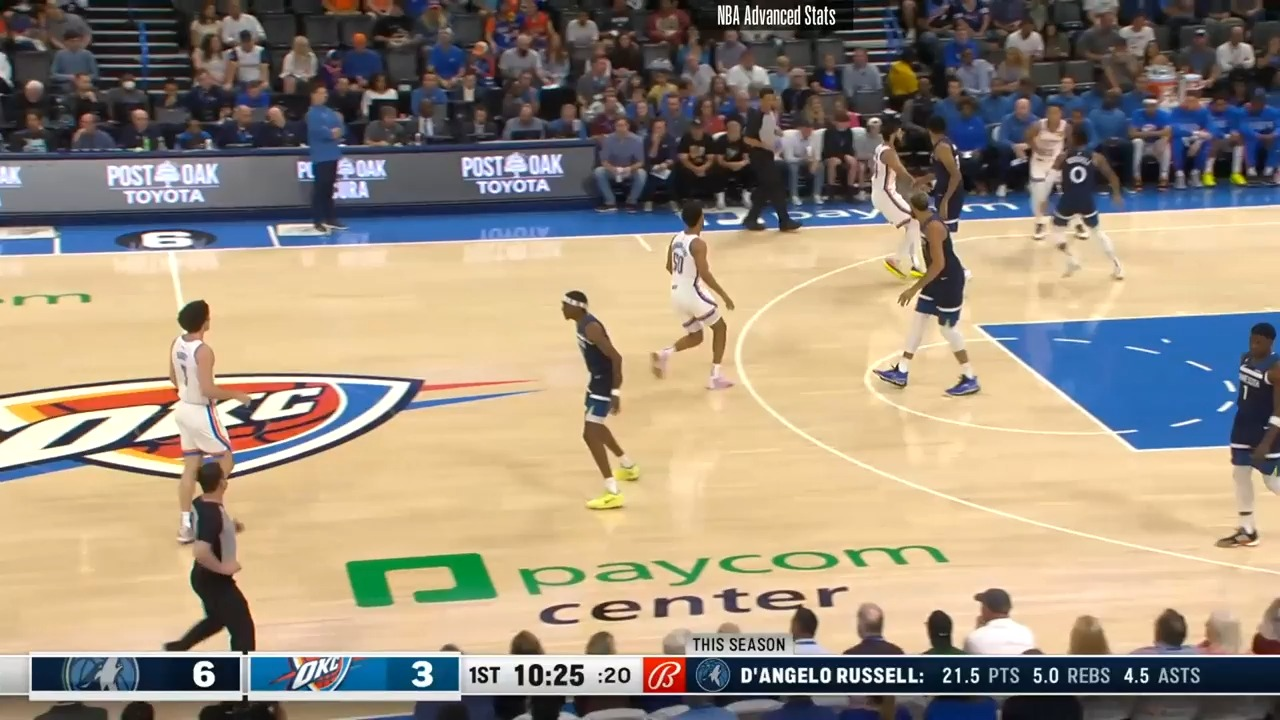player: (880, 184, 987, 403), (160, 303, 249, 557), (542, 289, 639, 516), (649, 203, 751, 397), (1224, 318, 1280, 554), (1048, 134, 1128, 285), (860, 126, 923, 288), (1019, 104, 1077, 243), (906, 115, 968, 235)
referee: (162, 433, 278, 647), (740, 82, 809, 242)
